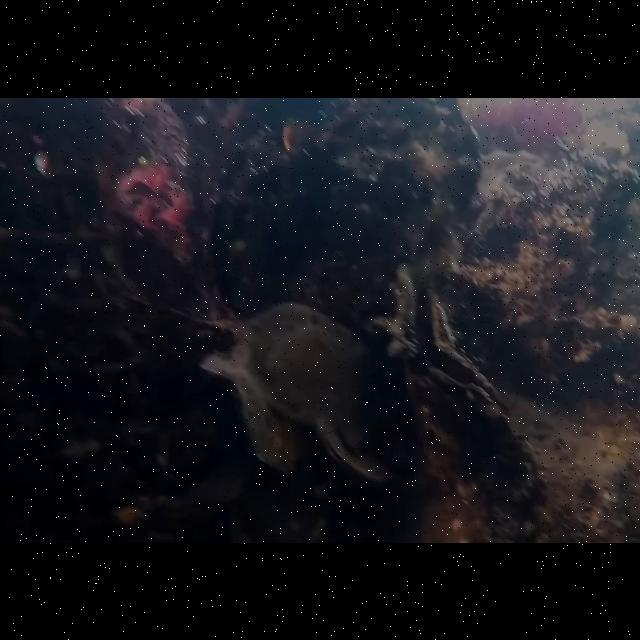Oyster-Closed: (238, 300, 402, 480)
Oyster-Open: (378, 257, 510, 431)
